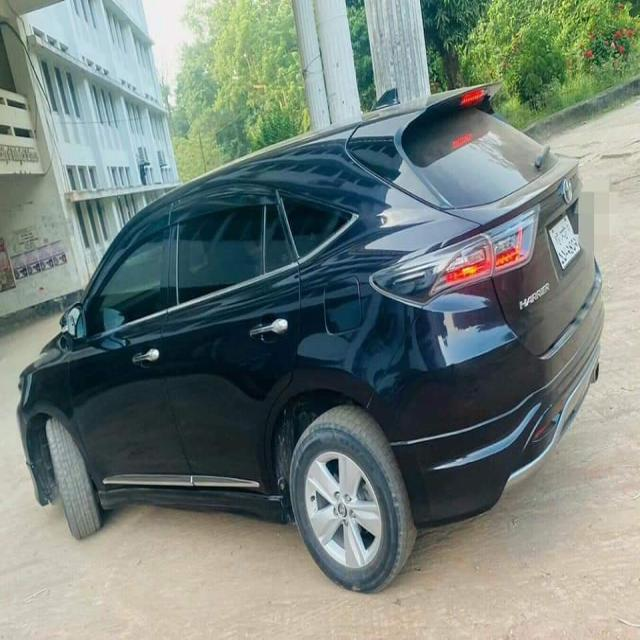black: (16, 146, 638, 569)
